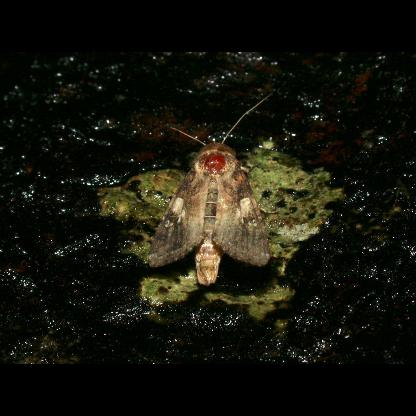Fall Armyworm Moth: (144, 90, 280, 288)
